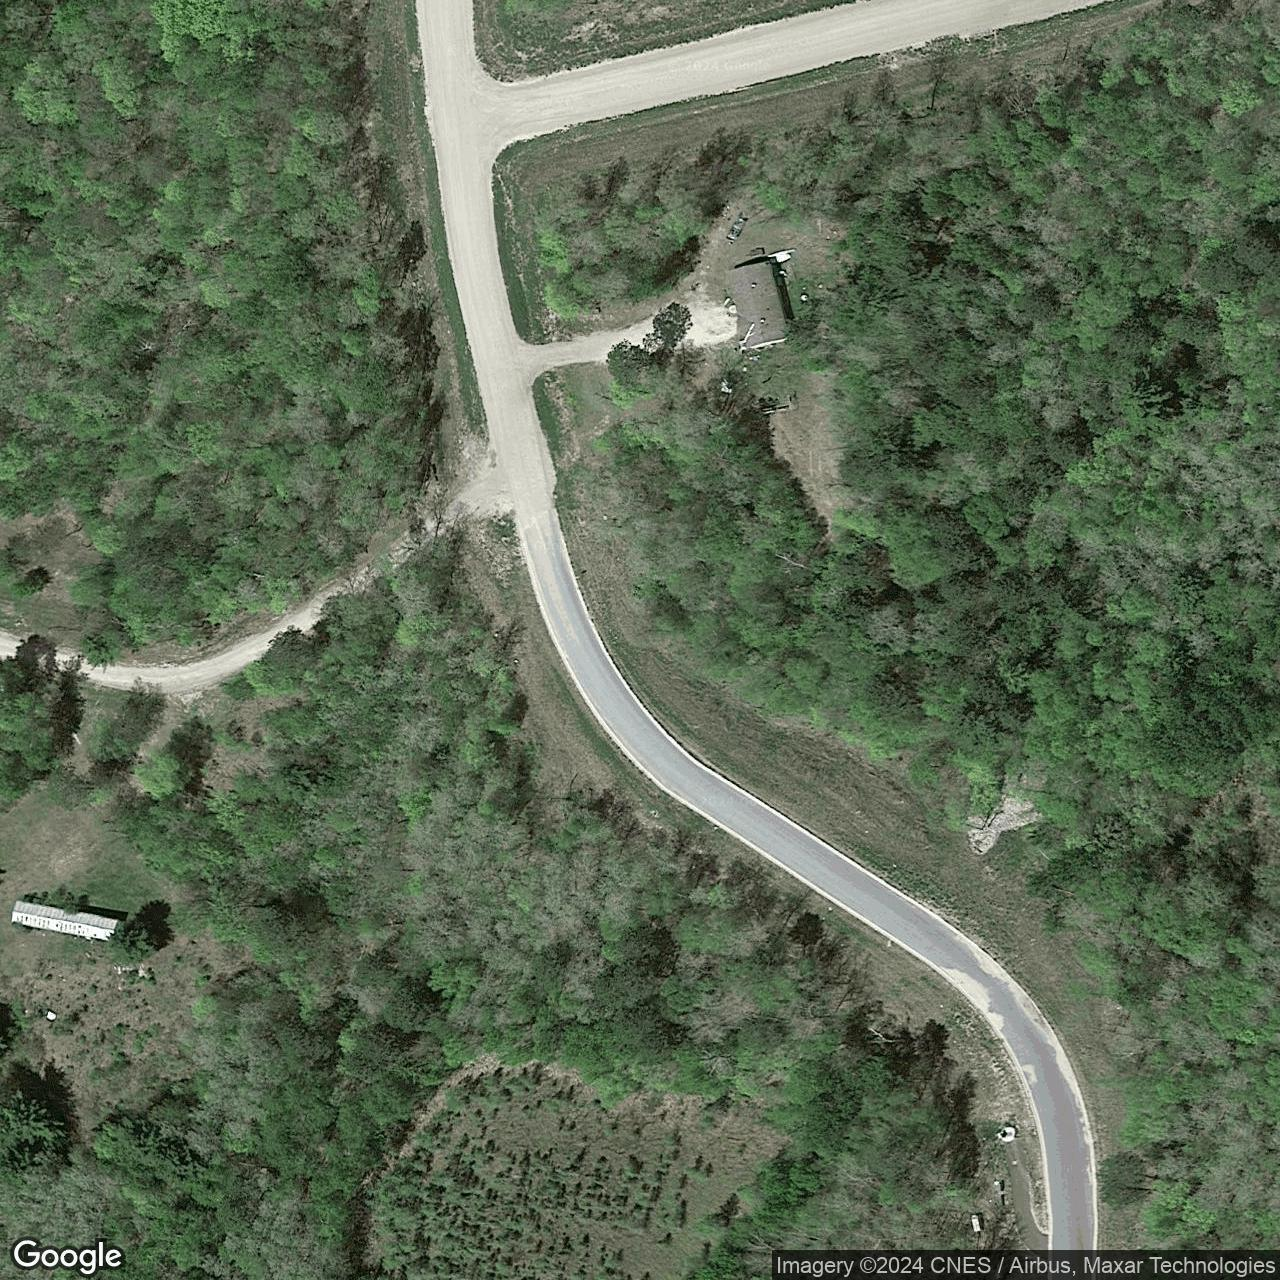House: (724, 258, 790, 353)
Trailer: (8, 898, 121, 945)
